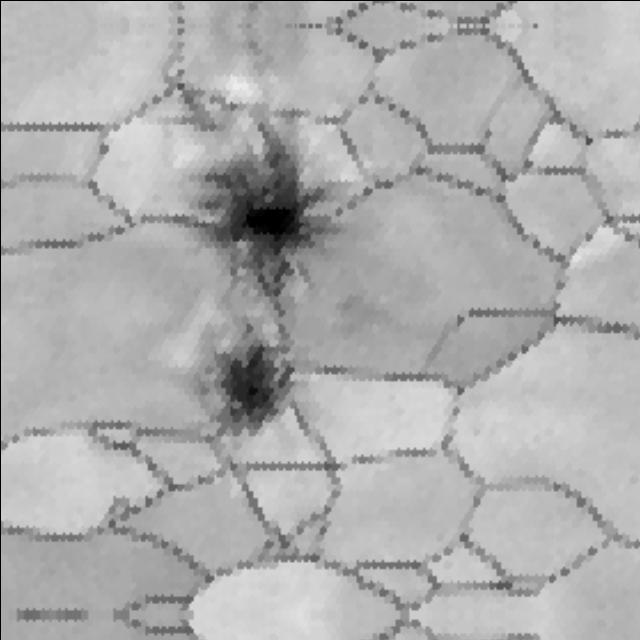good_void: (171, 110, 351, 316), (185, 307, 317, 450), (167, 74, 242, 137)
